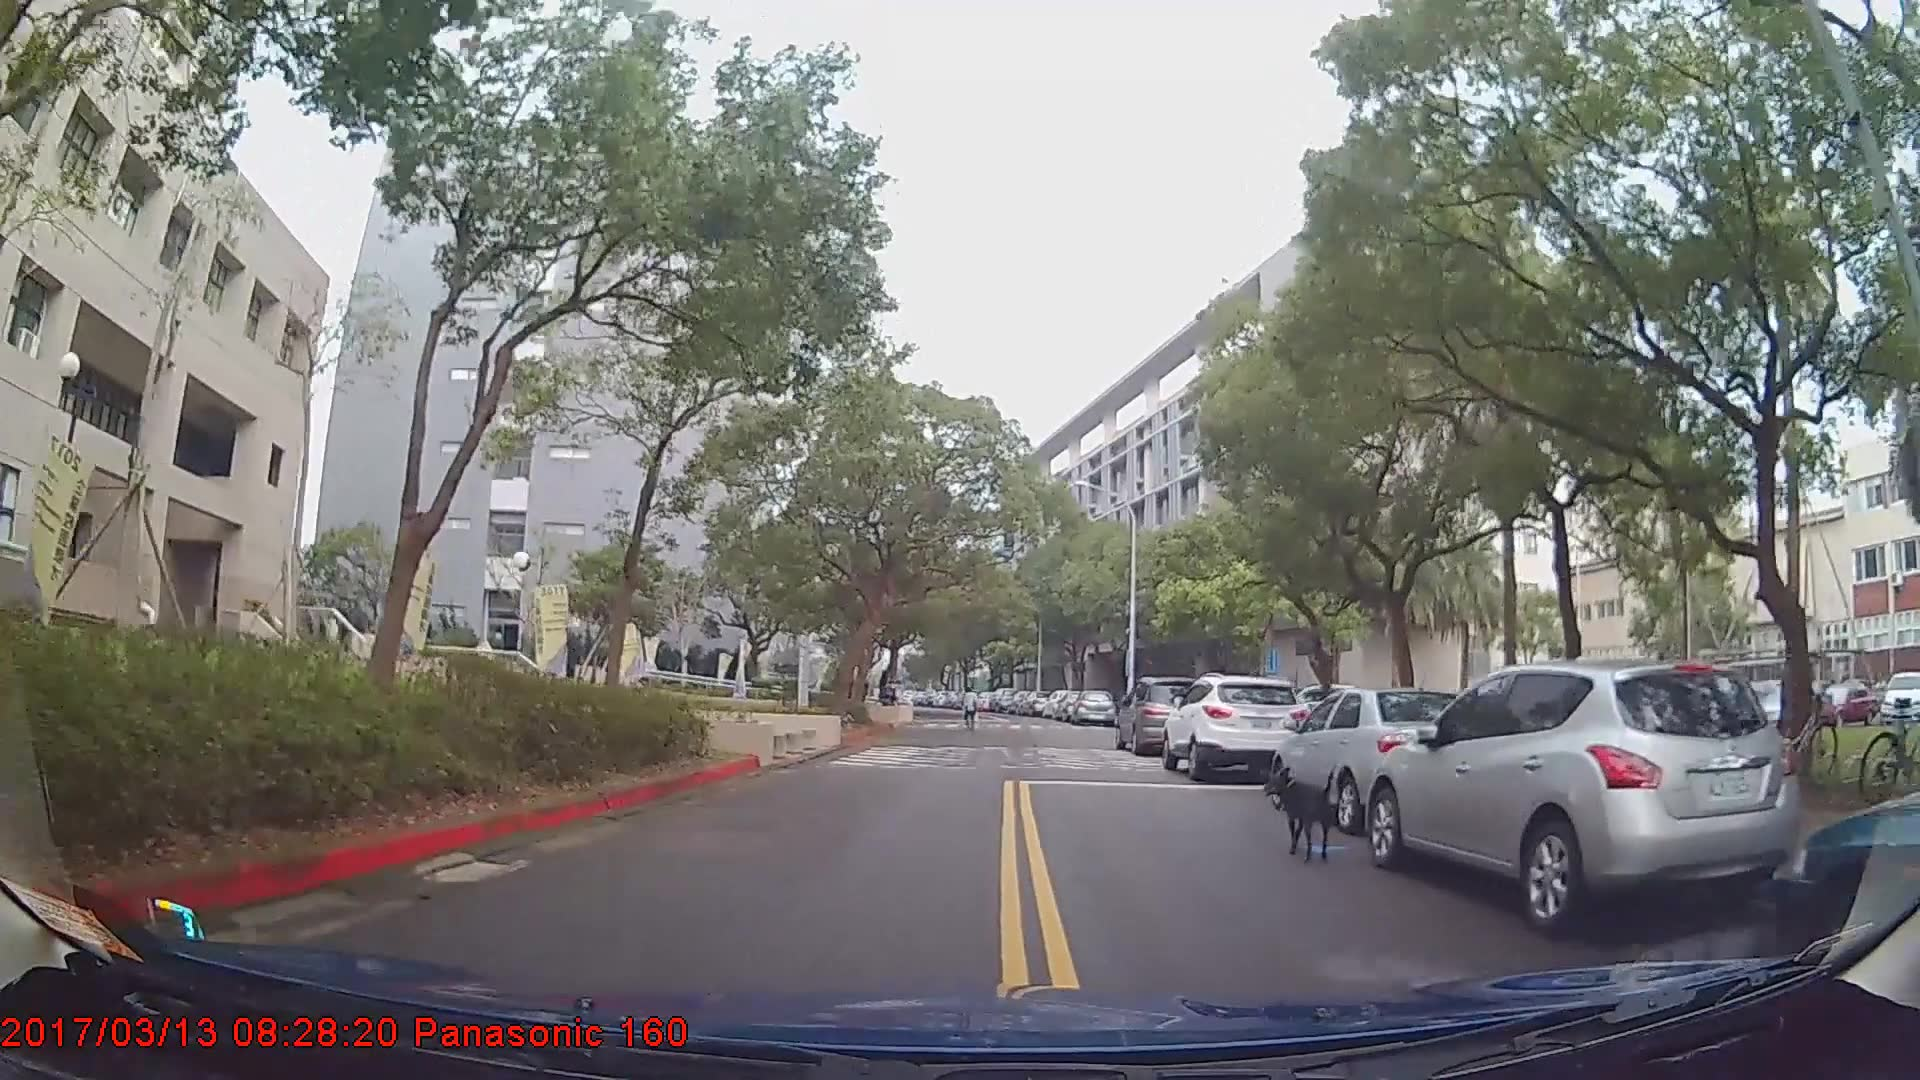pedestrian: (961, 686, 981, 732)
vehicle: (1362, 659, 1810, 935), (1271, 683, 1489, 832), (1163, 669, 1310, 778), (1113, 674, 1220, 752), (1071, 685, 1117, 725), (985, 686, 1014, 715)
